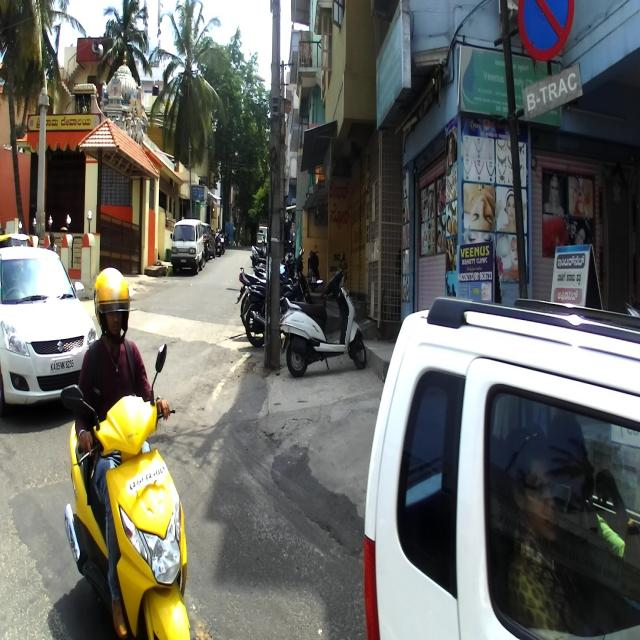car: (361, 296, 638, 639), (0, 244, 98, 416), (170, 216, 203, 275)
motorcycle: (240, 268, 314, 348)
scooter: (60, 340, 192, 640), (278, 260, 366, 378)
